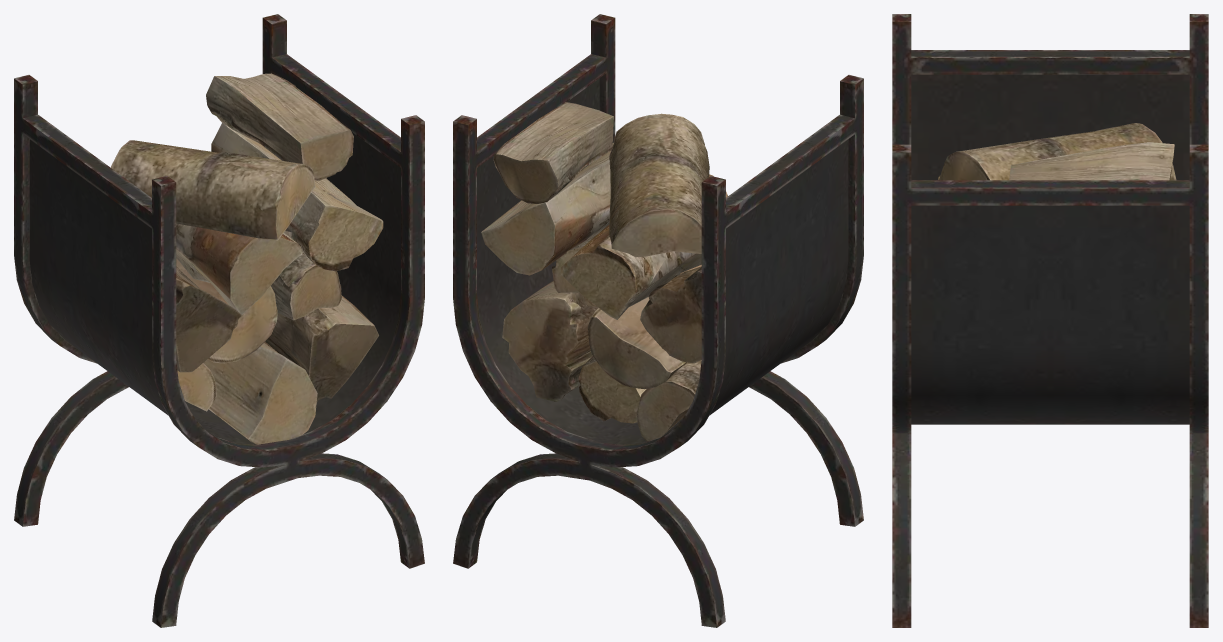
File: firewood_holder_stack.glb
3 views of the same model, side by side, from view 1: azimuth 30°, elevation 25°; view 2: azimuth 150°, elevation 25°; view 3: azimuth 270°, elevation 25° (orthographic). The views are drawn at different scales.
Parts seen in each view (by area): view 1: Firewood_Holder_Stack; view 2: Firewood_Holder_Stack; view 3: Firewood_Holder_Stack.
Boxes of the visible parts, x1,y1,x2,y2 form: Firewood_Holder_Stack: (14,14,424,627); Firewood_Holder_Stack: (453,14,863,627); Firewood_Holder_Stack: (892,14,1208,627).
Bounding box in the file's own units: 0.4599 × 0.7382 × 0.4432.
1 material, 1 textured.
